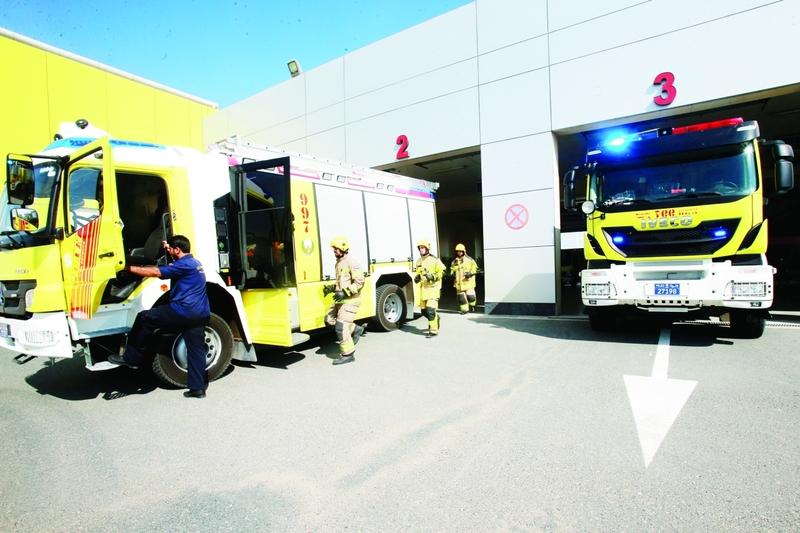firetruck_off: (2, 130, 442, 384)
firetruck_on: (567, 114, 794, 341)
